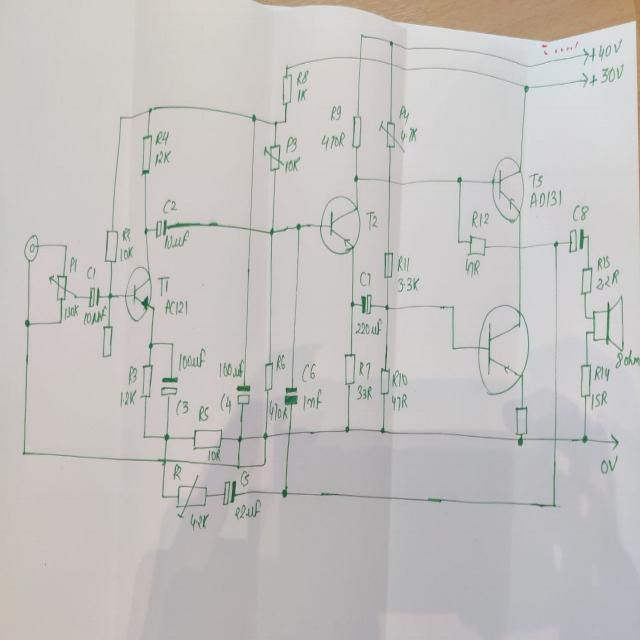capacitor: (159, 373, 179, 399), (221, 478, 237, 508), (568, 226, 584, 254), (235, 382, 251, 406), (283, 384, 299, 406), (154, 217, 168, 240), (87, 284, 100, 308), (360, 292, 372, 316)
crossover: (385, 174, 393, 188), (246, 223, 254, 234), (516, 243, 524, 253), (286, 428, 294, 438), (551, 433, 557, 442), (161, 455, 167, 464), (388, 59, 394, 68), (357, 54, 363, 62)
junction: (280, 486, 288, 500), (522, 82, 530, 95), (352, 172, 360, 184), (580, 432, 588, 443), (552, 238, 560, 249), (516, 435, 523, 446), (24, 316, 30, 328), (295, 220, 301, 232), (142, 224, 148, 236), (250, 112, 256, 123), (456, 174, 462, 185), (236, 432, 242, 442), (349, 298, 355, 308), (106, 290, 112, 300), (147, 339, 153, 349), (163, 431, 169, 441), (262, 430, 268, 440), (344, 424, 350, 434), (20, 447, 26, 457), (550, 500, 556, 510), (169, 338, 175, 348), (268, 227, 274, 236), (383, 302, 389, 311), (147, 105, 153, 114), (388, 38, 394, 47), (583, 328, 589, 337), (235, 461, 241, 470), (380, 426, 386, 434), (272, 118, 278, 126), (582, 312, 588, 320), (62, 241, 68, 249), (358, 31, 364, 39), (450, 343, 455, 351), (586, 232, 590, 241), (283, 116, 287, 124), (456, 237, 460, 245), (262, 459, 266, 467), (58, 317, 62, 325), (284, 62, 288, 70), (118, 113, 122, 120), (160, 492, 164, 499), (450, 303, 454, 310), (142, 432, 146, 438)
resistor: (175, 472, 207, 519), (378, 119, 405, 154), (47, 272, 76, 301), (191, 426, 222, 450), (262, 142, 284, 172), (103, 227, 119, 263), (140, 132, 152, 174), (579, 361, 591, 398), (140, 361, 152, 398), (514, 404, 528, 435), (350, 112, 362, 148), (343, 351, 355, 386), (100, 323, 112, 358), (468, 233, 486, 256), (580, 264, 592, 296), (281, 71, 291, 106), (382, 250, 394, 278), (263, 360, 273, 392), (379, 365, 389, 395)
terminal: (23, 232, 39, 261), (609, 432, 619, 450), (581, 70, 589, 90), (582, 46, 588, 66)
text: (588, 61, 624, 87), (589, 37, 623, 62), (529, 187, 561, 210), (218, 356, 244, 381), (178, 347, 205, 370), (234, 498, 262, 520), (615, 346, 639, 369), (163, 229, 189, 250), (353, 318, 382, 336), (320, 130, 346, 150), (82, 304, 106, 325), (596, 269, 620, 290), (163, 297, 187, 316), (302, 388, 322, 410), (188, 510, 208, 530), (396, 252, 412, 277), (600, 453, 618, 474), (398, 103, 412, 129), (571, 202, 589, 222), (390, 369, 408, 389), (119, 387, 137, 407), (398, 275, 419, 292), (592, 388, 608, 410), (464, 256, 480, 278), (390, 392, 408, 411), (153, 147, 171, 166), (268, 402, 286, 421), (300, 360, 316, 381), (275, 346, 287, 373), (593, 363, 610, 382), (400, 125, 417, 144), (358, 356, 372, 379), (174, 396, 190, 416), (218, 391, 232, 413), (283, 155, 300, 173), (471, 209, 488, 226), (154, 128, 170, 146), (126, 360, 137, 386), (366, 208, 378, 231), (356, 383, 372, 400), (158, 274, 170, 296), (63, 303, 79, 319), (528, 170, 543, 187), (198, 403, 210, 424), (120, 222, 132, 243), (358, 270, 372, 288), (295, 69, 309, 87), (329, 103, 342, 121), (285, 135, 297, 154), (296, 86, 308, 105), (162, 196, 176, 212), (596, 254, 610, 270), (119, 244, 133, 260), (85, 261, 95, 282), (206, 447, 220, 462), (70, 250, 78, 276), (239, 468, 249, 486), (172, 462, 182, 480)
transistor: (474, 302, 532, 393), (318, 193, 360, 257), (490, 153, 524, 223), (124, 264, 154, 322)
